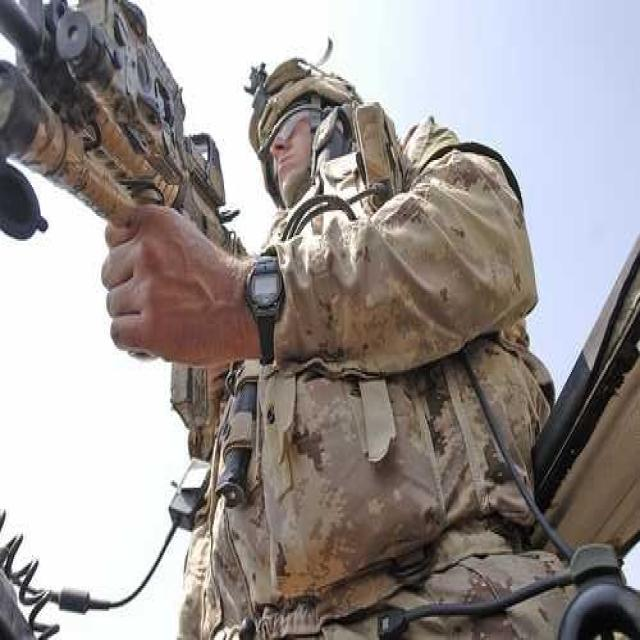Rifle: (0, 0, 255, 476)
